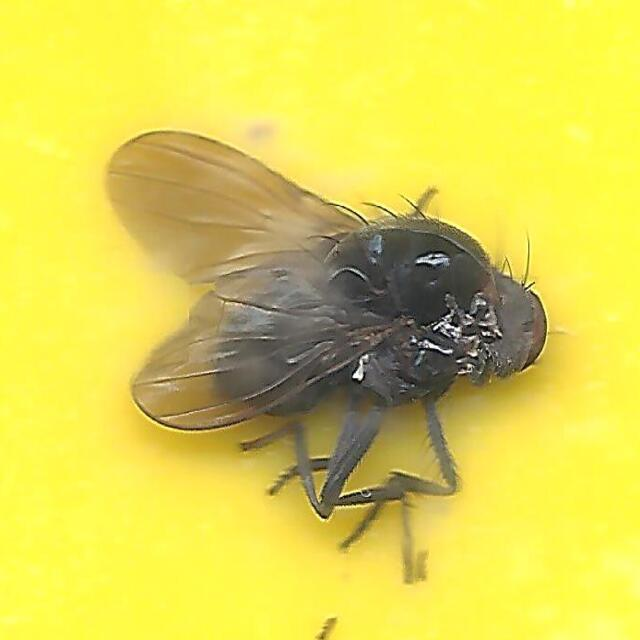Brachycera: (92, 121, 548, 519)
